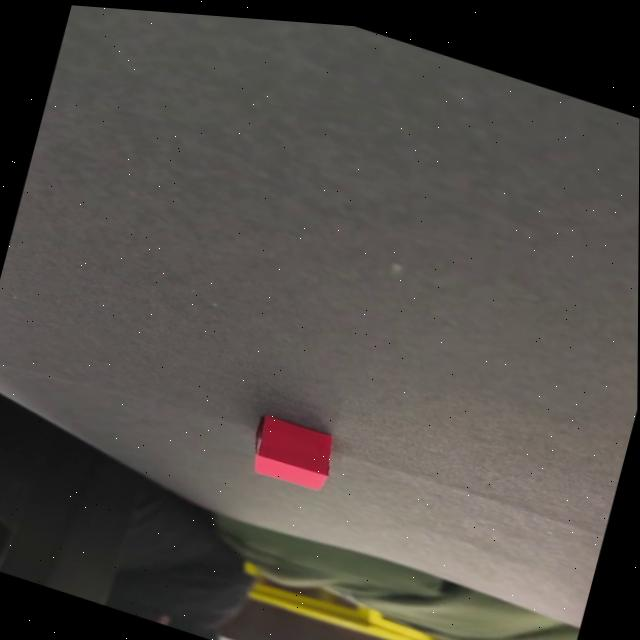red block: (244, 409, 338, 496)
